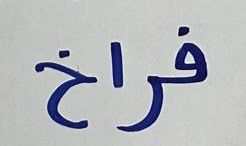alef: (105, 39, 125, 89)
feh: (168, 21, 210, 88)
khah: (27, 44, 100, 132)
reh: (127, 65, 165, 133)
